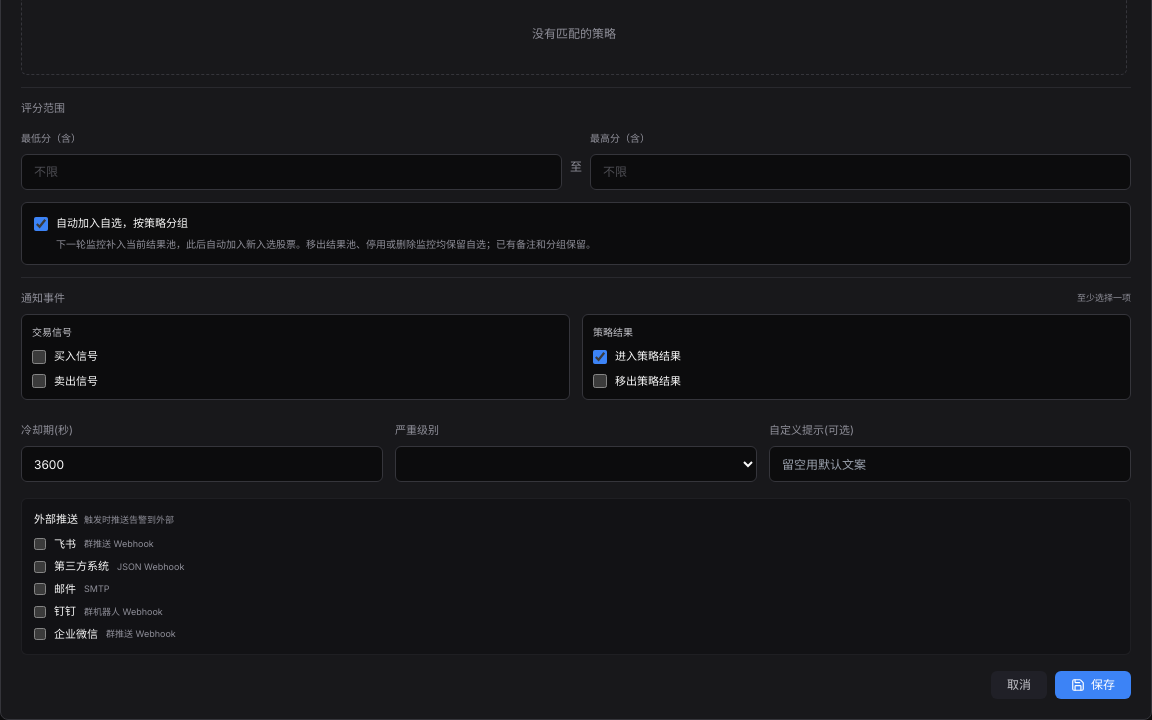
Test: keeps the checked option and reports save failures without closing
(page scrolled)
Click the button "保存".
click(1093, 685)  # box x1=1055 y1=671 x2=1131 y2=699
(page scrolled)
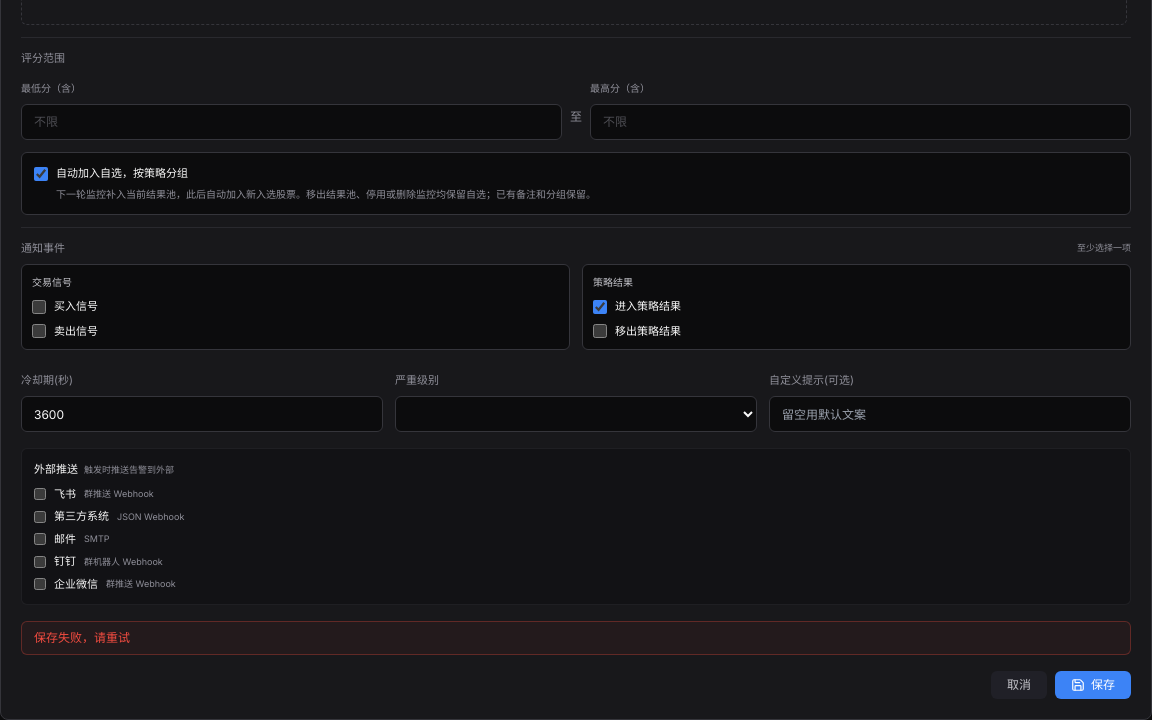
Now the text "保存失败，请重试" is shown, box x1=21 y1=621 x2=1131 y2=655
